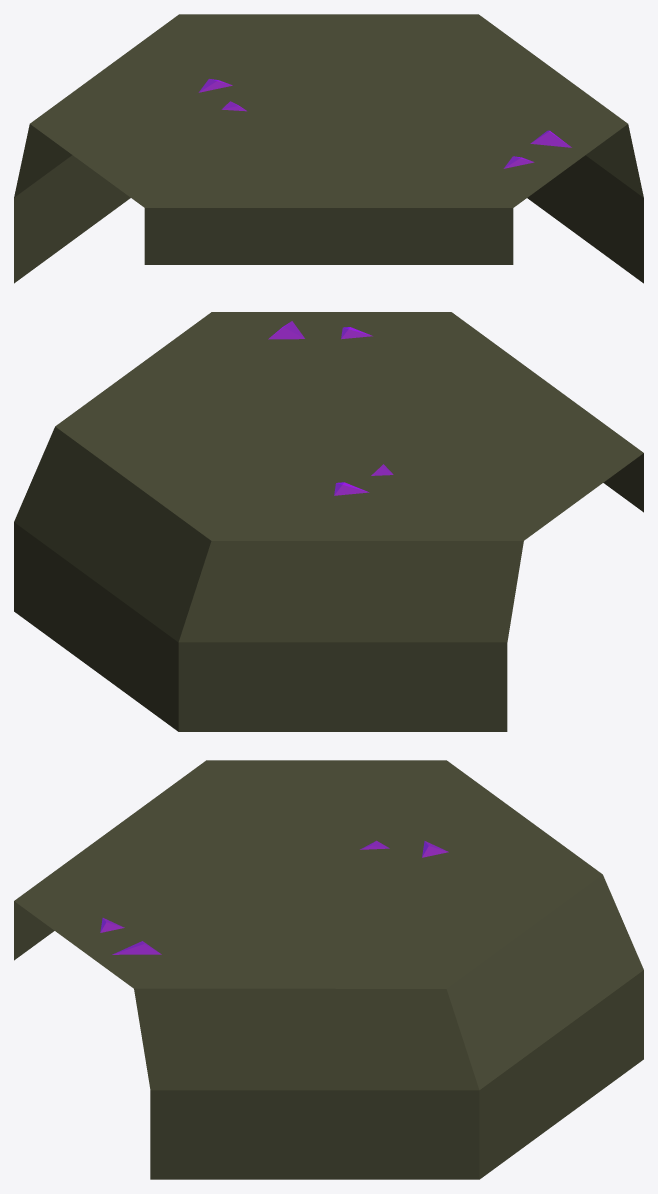
The model's file is nearpointUnit1(2).fbx.
3 renders of one model, top to bottom at view 1: azimuth 30°, elevation 25°; view 2: azimuth 150°, elevation 25°; view 3: azimuth 270°, elevation 25°, orthographic. The views are drawn at different scales.
Parts seen in each view (by area): view 1: nearpointUnit1(2); view 2: nearpointUnit1(2); view 3: nearpointUnit1(2).
Boxes of the visible parts, left/top/right/bottom form: nearpointUnit1(2): left=14, top=14, right=643, bottom=283; nearpointUnit1(2): left=14, top=312, right=643, bottom=731; nearpointUnit1(2): left=14, top=760, right=643, bottom=1179.
Bounding box in the file's own units: 1.73 × 1.91 × 0.6254.
